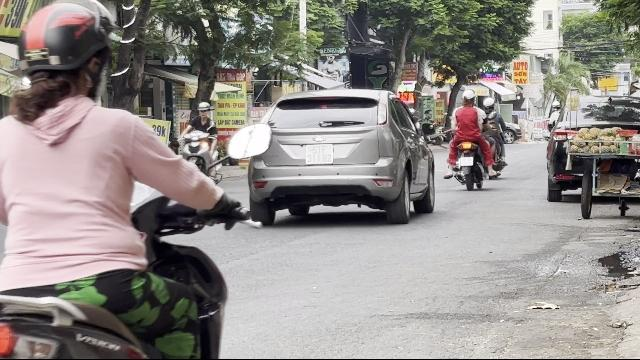helmet: (12, 1, 114, 103)
motorcyclist: (2, 1, 248, 357)
